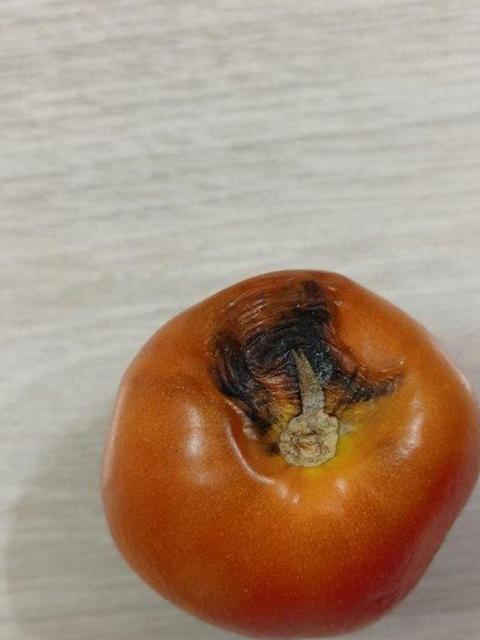defect: (96, 259, 478, 640)
